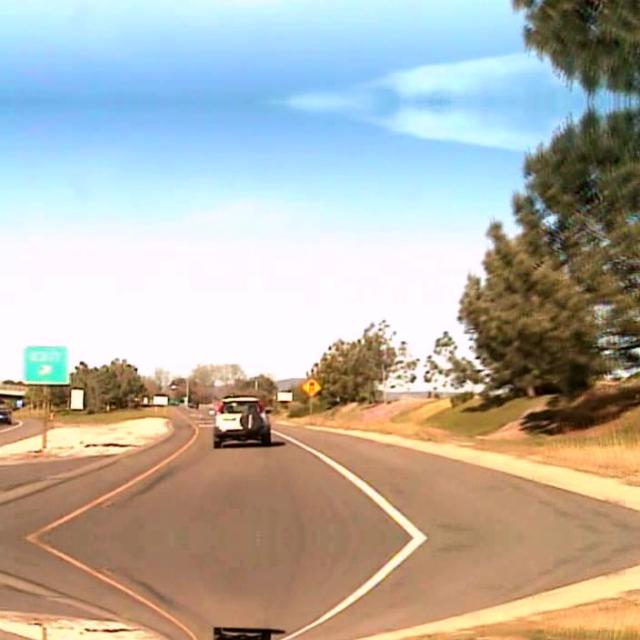signalAhead: (300, 376, 320, 396)
